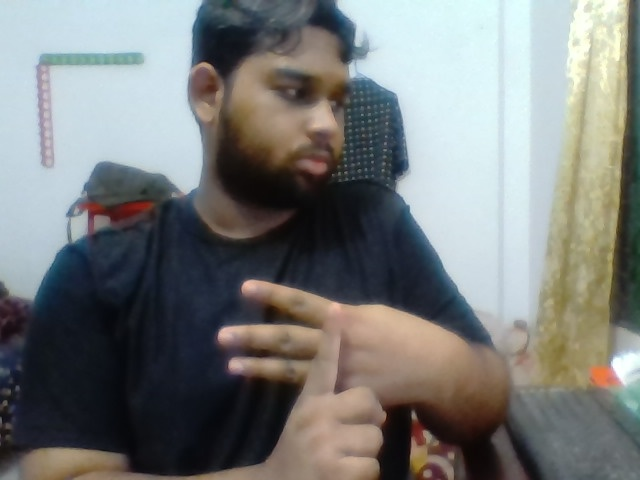E: (209, 262, 413, 478)
